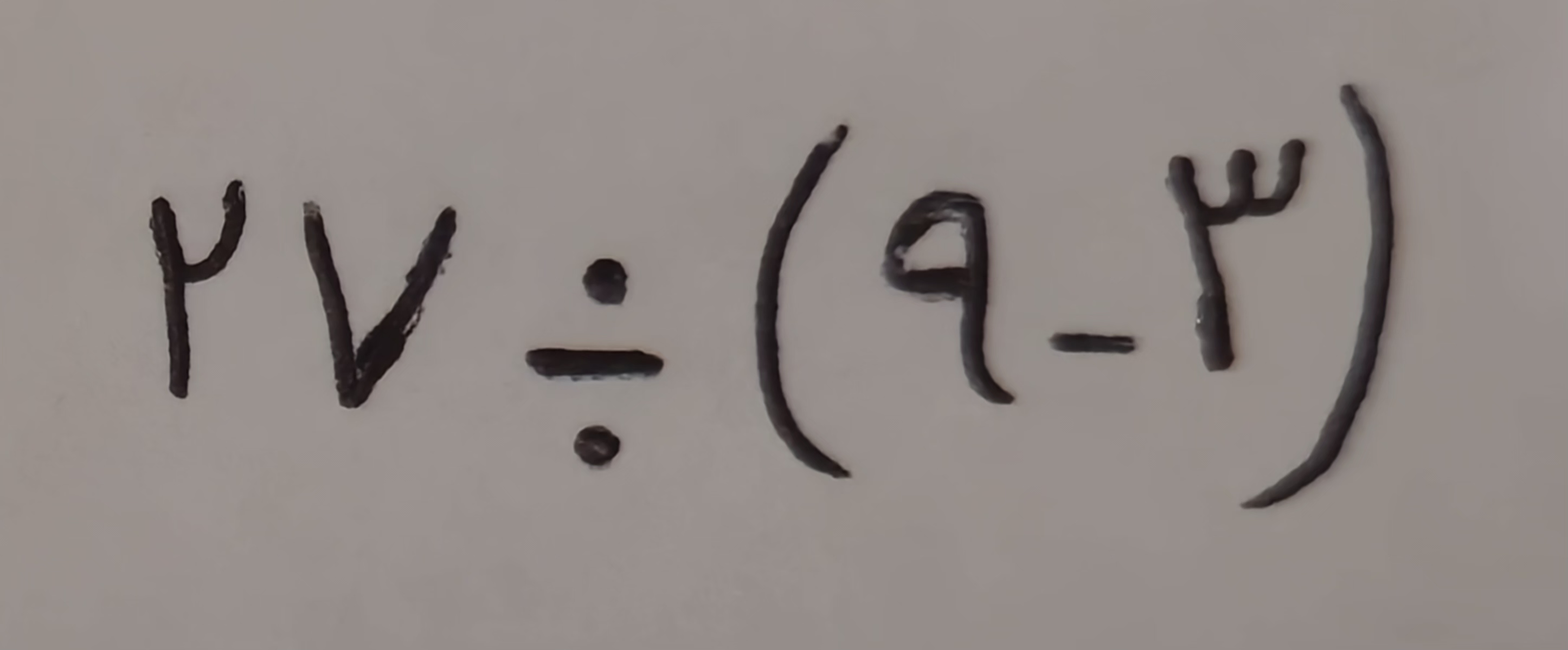character: (756, 124, 854, 482), (303, 201, 459, 410), (1166, 139, 1305, 373), (524, 258, 663, 469), (883, 189, 1017, 407), (149, 179, 246, 398), (1240, 84, 1409, 161), (1049, 331, 1141, 355)
